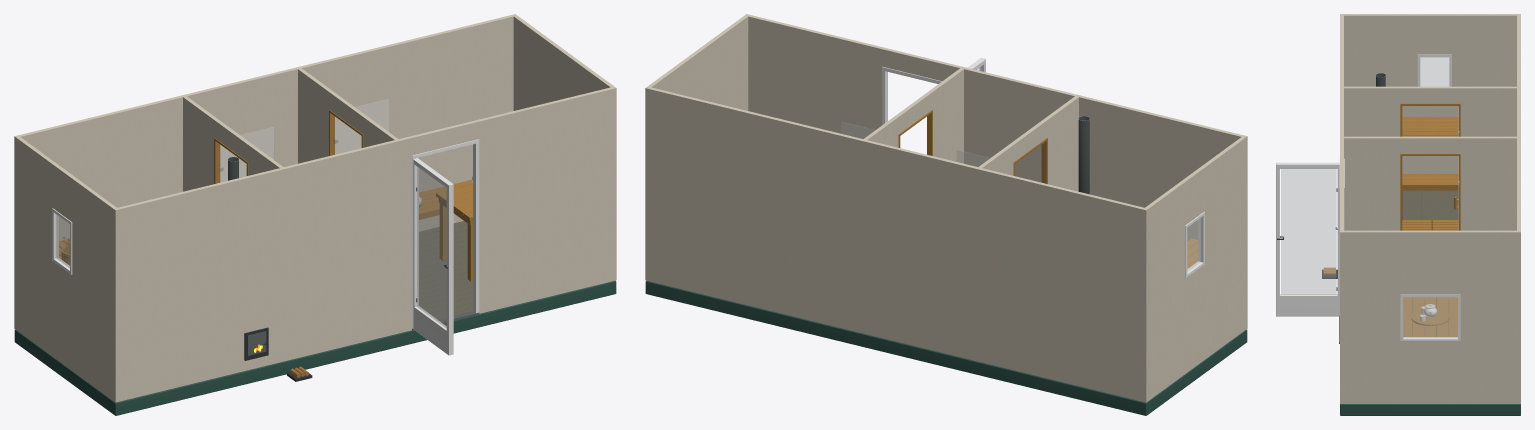
3 views of the same model, side by side, from view 1: azimuth 30°, elevation 25°; view 2: azimuth 150°, elevation 25°; view 3: azimuth 270°, elevation 25° (orthographic). The views are drawn at different scales.
Visible parts, largest first — view 1: Wall front band 2, Wall front band 4, Wall front band 5, Wall front band 6, Wall front band 7, Wall rear band 7, Wall front band 1, Wall front band 8, Wall rear band 8, Wall rear band 6, Foundation, Wall rear band 5 (+28 smaller); view 2: Wall rear band 2, Wall rear band 4, Wall rear band 7, Wall rear band 5, Wall rear band 6, Wall rear band 1, Wall rear band 8, Wall front band 8, Wall front band 7, Foundation, Wall front band 6, Wall front band 5 (+21 smaller); view 3: Single PVC glass panel, Wall right band 2, Wall left band 7, Wall right band 6, Wall right band 7, Wall right band 1, Wall left band 6, Wall left band 8, Wall right band 8, Wall top_4_0003 band 8, Wall top_4_0004 band 8, Wall top_4_0003 band 7 (+38 smaller).
Part boxes in pixels (<box>): Wall front band 2: <box>113,215,616,365</box>; Wall front band 4: <box>113,184,616,332</box>; Wall front band 5: <box>113,158,616,306</box>; Wall front band 6: <box>113,132,616,280</box>; Wall front band 7: <box>113,105,616,253</box>; Wall rear band 7: <box>14,34,513,181</box>; Wall front band 1: <box>113,243,616,390</box>; Wall front band 8: <box>113,86,616,227</box>; Wall rear band 8: <box>14,14,516,154</box>; Wall rear band 6: <box>14,60,513,207</box>; Foundation: <box>14,280,616,415</box>; Wall rear band 5: <box>14,86,513,233</box>; Wall rear band 2: <box>645,215,1148,365</box>; Wall rear band 4: <box>645,184,1148,332</box>; Wall rear band 7: <box>645,105,1148,253</box>; Wall rear band 5: <box>645,158,1148,306</box>; Wall rear band 6: <box>645,132,1148,280</box>; Wall rear band 1: <box>645,243,1148,390</box>; Wall rear band 8: <box>645,86,1148,227</box>; Wall front band 8: <box>745,14,1247,154</box>; Wall front band 7: <box>748,34,1247,181</box>; Foundation: <box>645,280,1247,415</box>; Wall front band 6: <box>748,60,1247,207</box>; Wall front band 5: <box>748,86,1247,233</box>; Single PVC glass panel: <box>1281,169,1336,294</box>; Wall right band 2: <box>1344,345,1516,371</box>; Wall left band 7: <box>1344,31,1516,54</box>; Wall right band 6: <box>1344,271,1516,294</box>; Wall right band 7: <box>1344,248,1516,271</box>; Wall right band 1: <box>1344,371,1516,393</box>; Wall left band 6: <box>1344,54,1516,77</box>; Wall left band 8: <box>1344,14,1516,31</box>; Wall right band 8: <box>1344,230,1516,247</box>; Wall top_4_0003 band 8: <box>1344,86,1516,103</box>; Wall top_4_0004 band 8: <box>1344,136,1516,153</box>; Wall top_4_0003 band 7: <box>1344,103,1516,127</box>.
Bounding box in the file's own units: 6.02 × 2.36 × 2.84.
34 materials, 15 textured.
